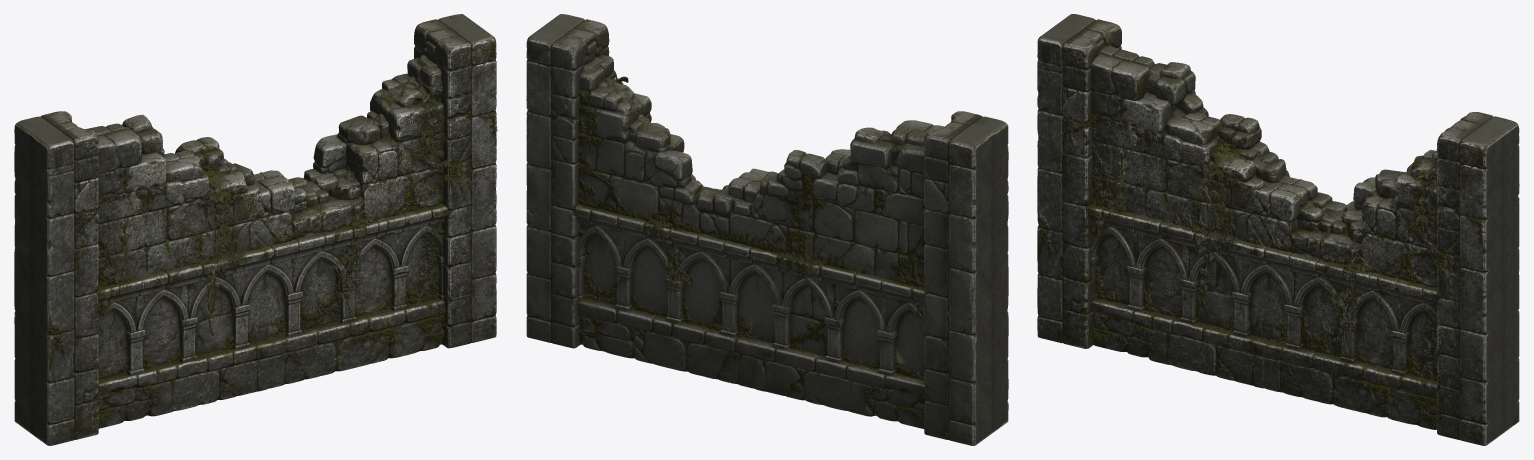
The model's file is Meshy_AI_model_copy.glb.
The picture shows the model from 3 angles, left to right: view 1: azimuth 30°, elevation 25°; view 2: azimuth 150°, elevation 25°; view 3: azimuth 330°, elevation 25°; orthographic projection.
Parts seen in each view (by area): view 1: mesh_node; view 2: mesh_node; view 3: mesh_node.
Boxes of the visible parts, x1,y1,x2,y2 form: mesh_node: (14, 14, 497, 445); mesh_node: (526, 14, 1008, 445); mesh_node: (1037, 14, 1519, 445).
Bounding box in the file's own units: 1.9 × 1.21 × 0.2937.
Materials: 1 (1 with a texture image).
